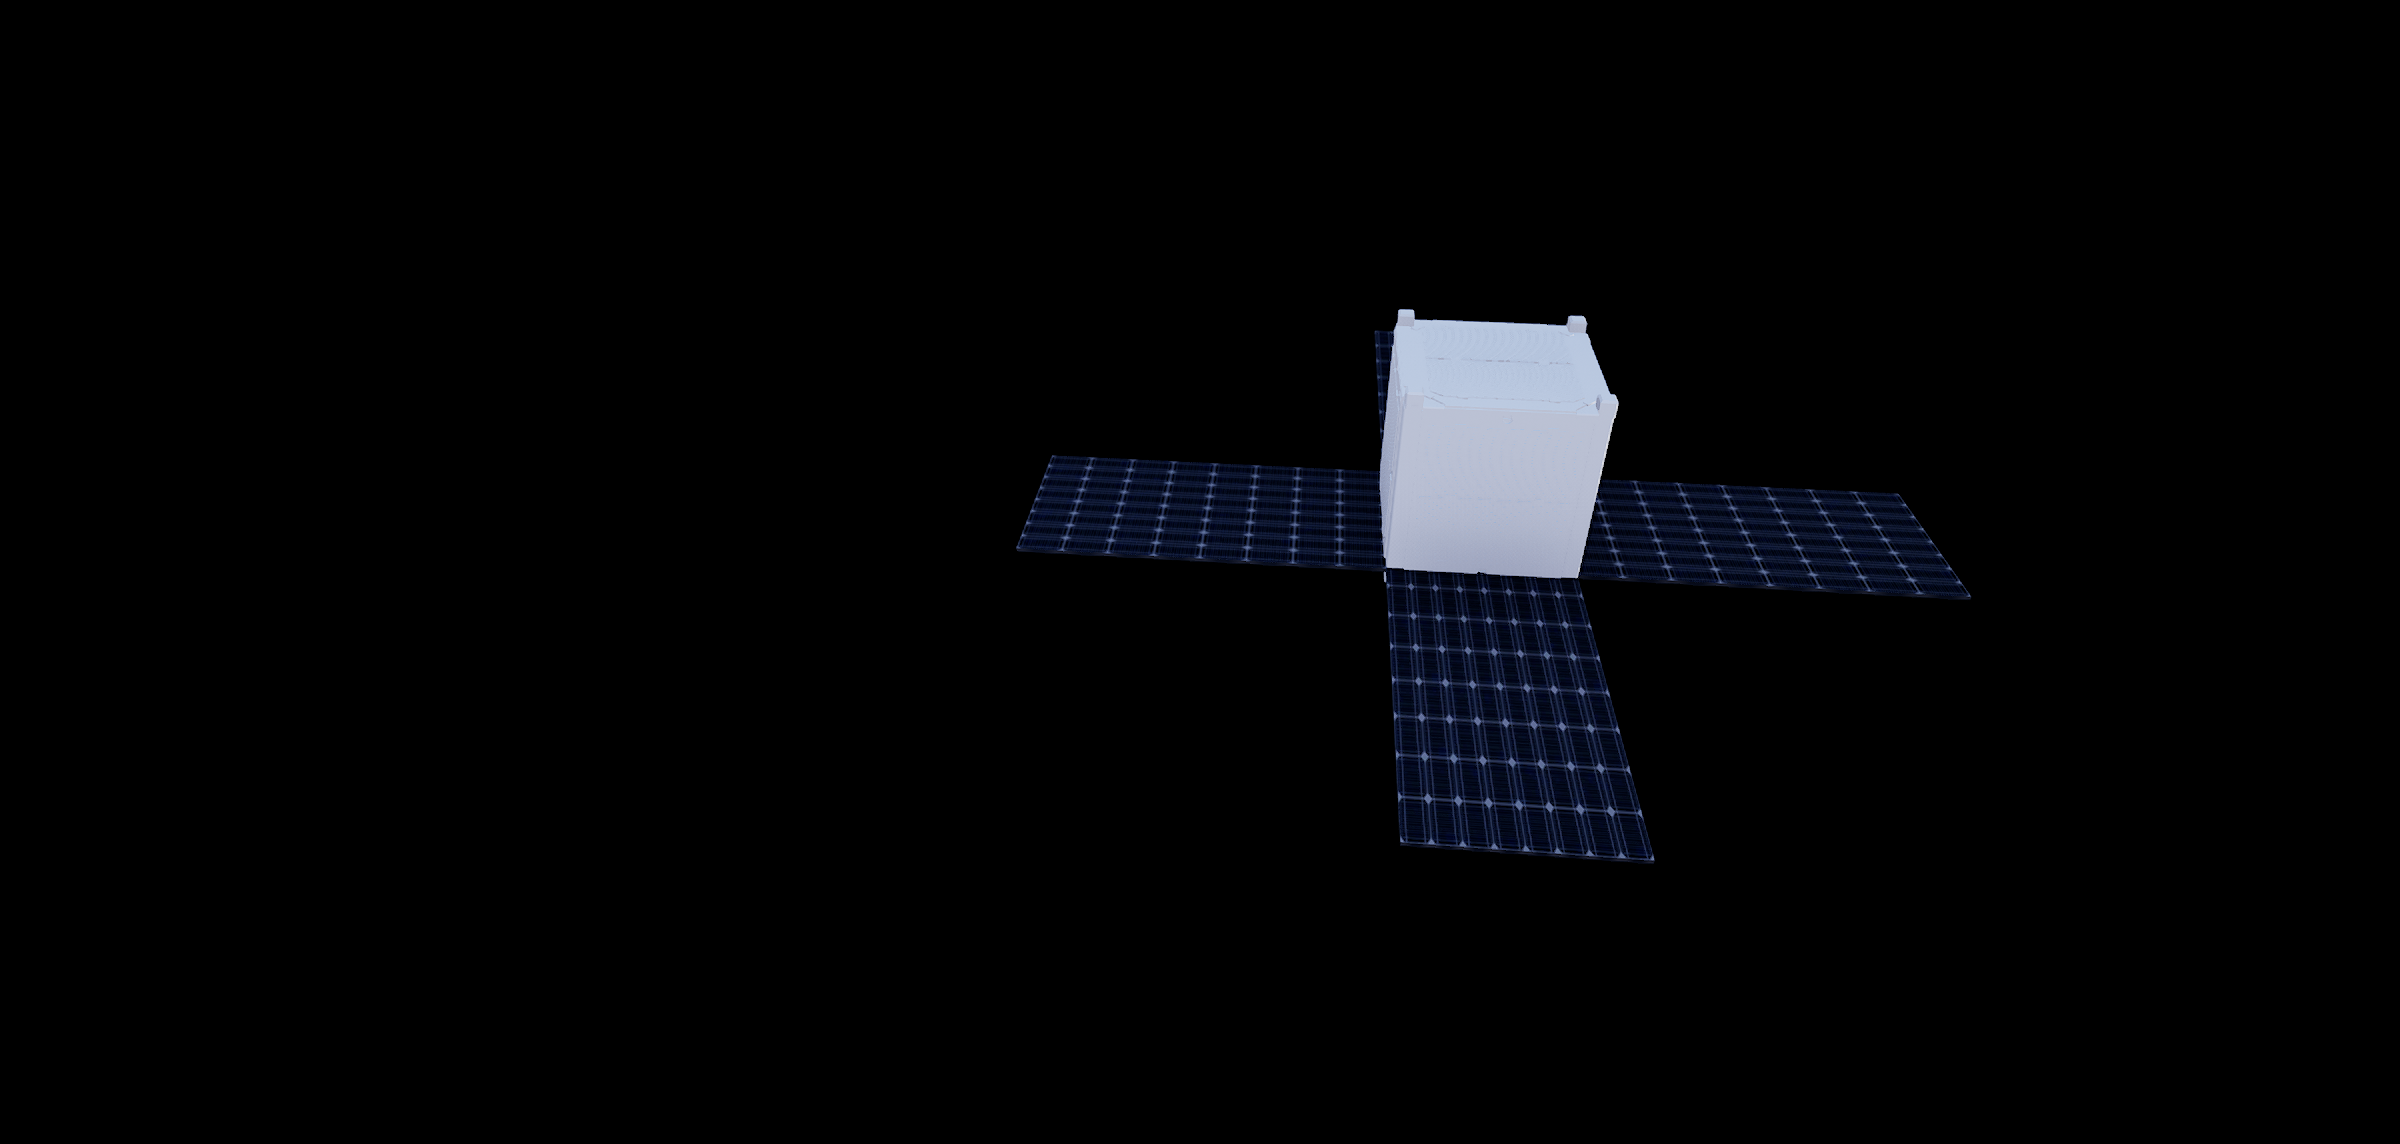satellite: (944, 217, 1997, 940)
